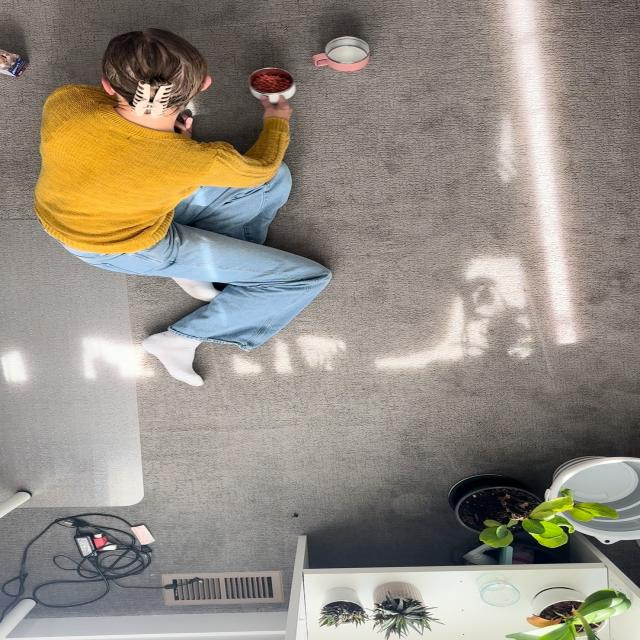IBC: (313, 37, 370, 72), (250, 68, 296, 104)
